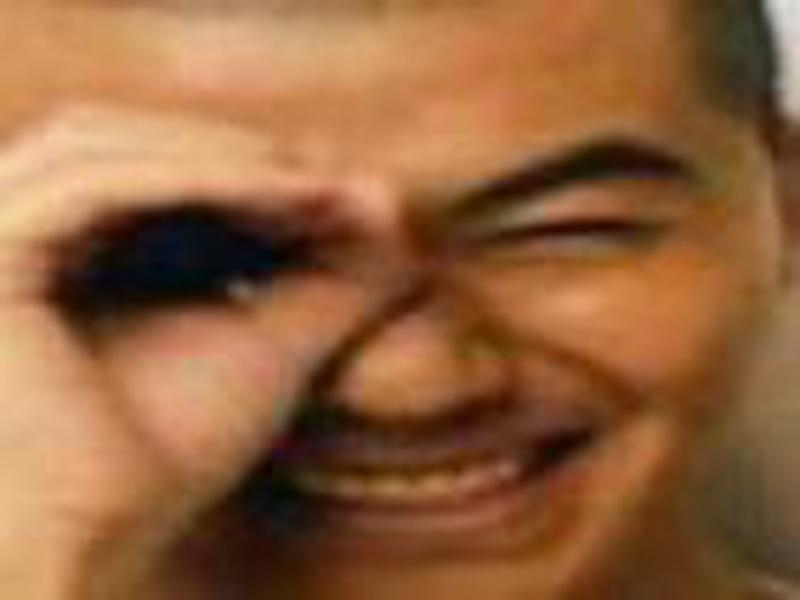without_mask: (14, 2, 782, 600)
